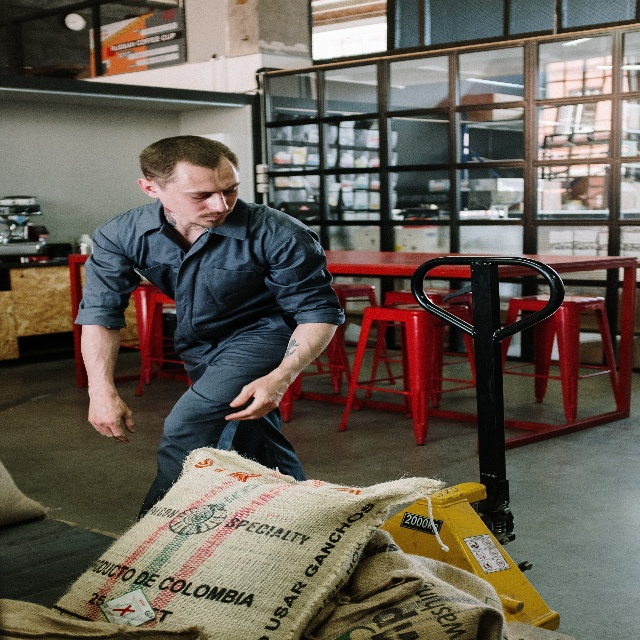Sin_guantes: (225, 365, 298, 421), (88, 384, 137, 444)
